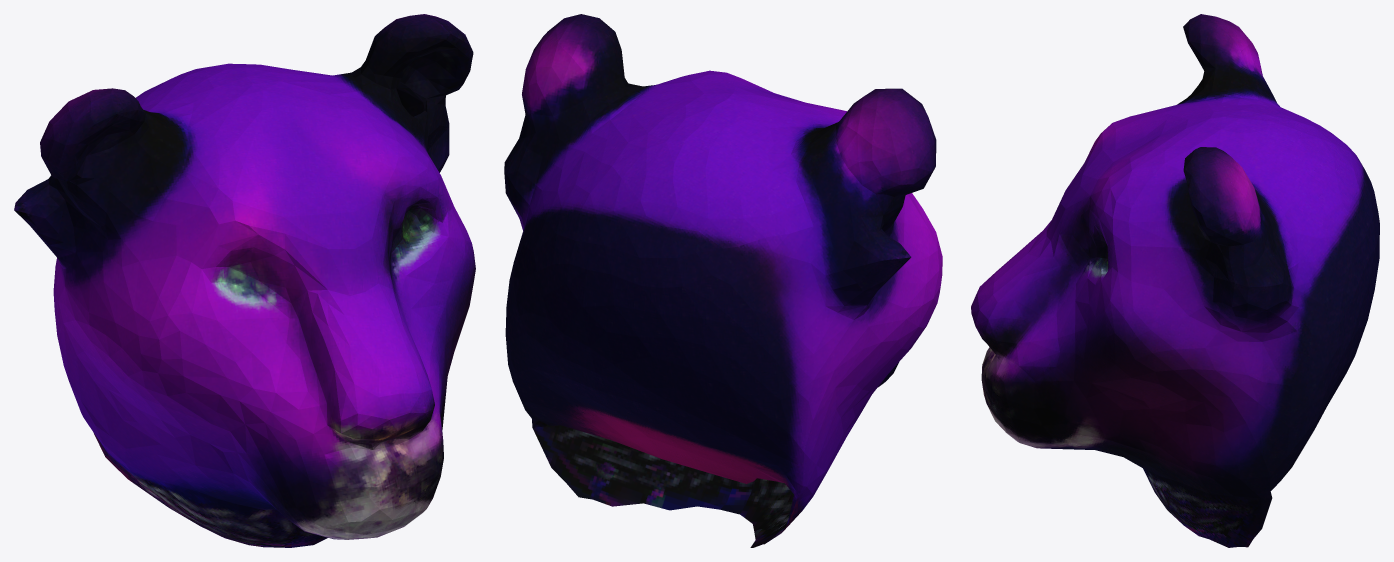
Rendered from trellis_result.glb.
The picture shows the model from 3 angles, left to right: view 1: azimuth 30°, elevation 25°; view 2: azimuth 150°, elevation 25°; view 3: azimuth 270°, elevation 25°; orthographic projection. The views are drawn at different scales.
Visible parts, largest first — view 1: world; view 2: world; view 3: world.
Part boxes in pixels (<box>): world: <box>14,14,475,547</box>; world: <box>504,14,942,547</box>; world: <box>971,14,1379,547</box>.
Size of the model in its own units: 0.2756 by 0.3057 by 0.2688.
1 material, 1 textured.
